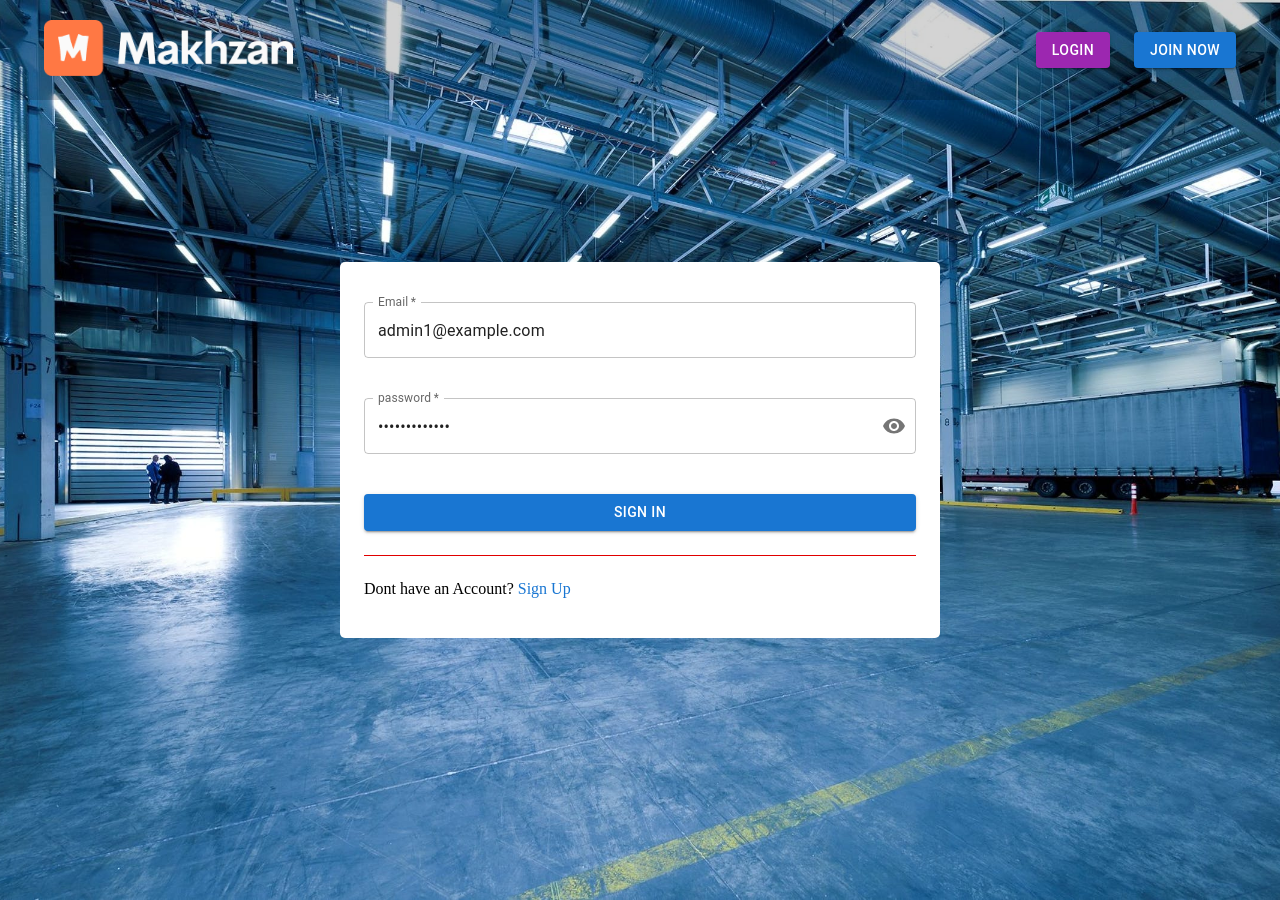
it: Auth Reduxified Container › should authenticate user with successfull login message
Clear the field with test id "email-inputElement": (640, 330) x1=364 y1=302 x2=916 y2=358
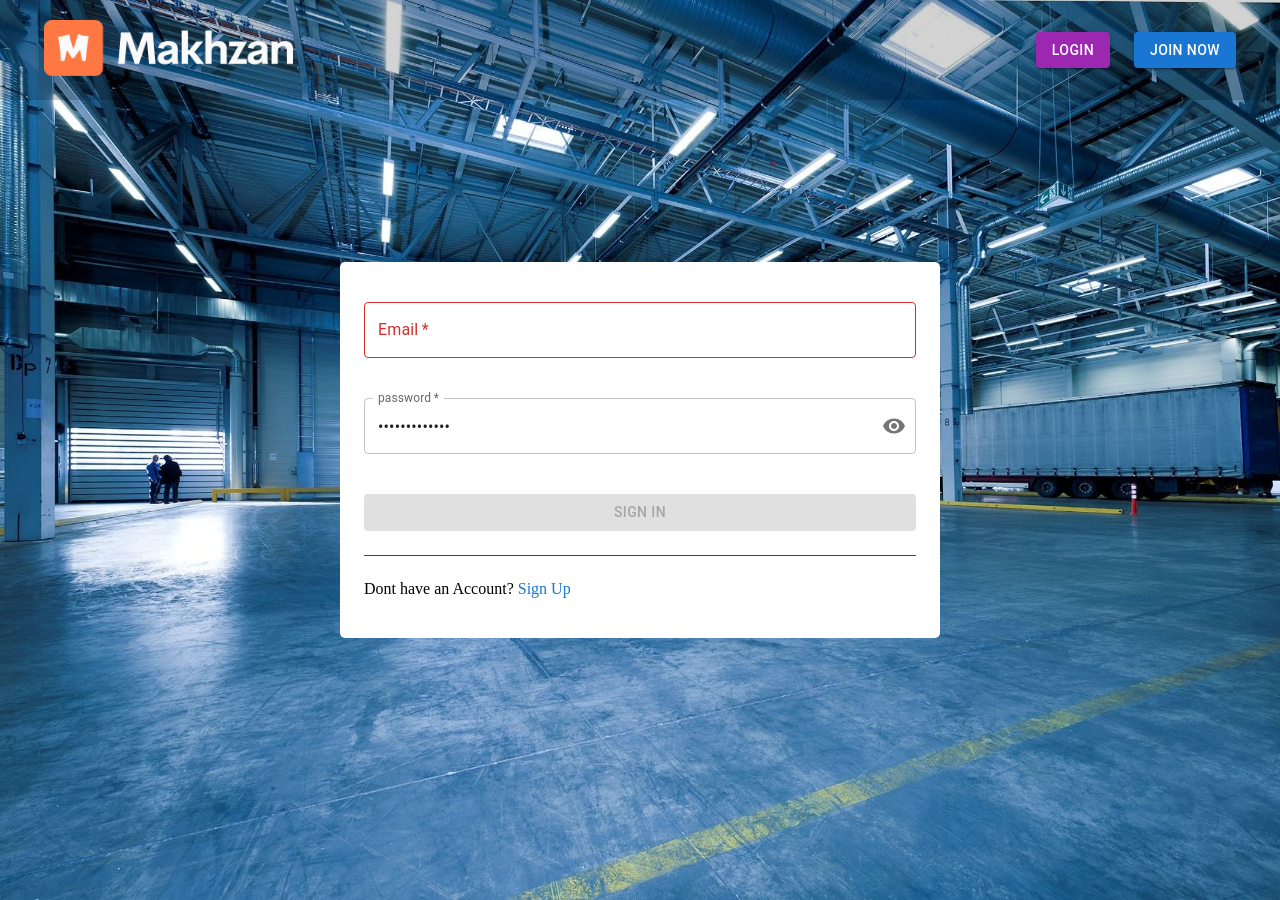
Clear the password field with test id "password-inputElement": (615, 426) x1=364 y1=398 x2=866 y2=454
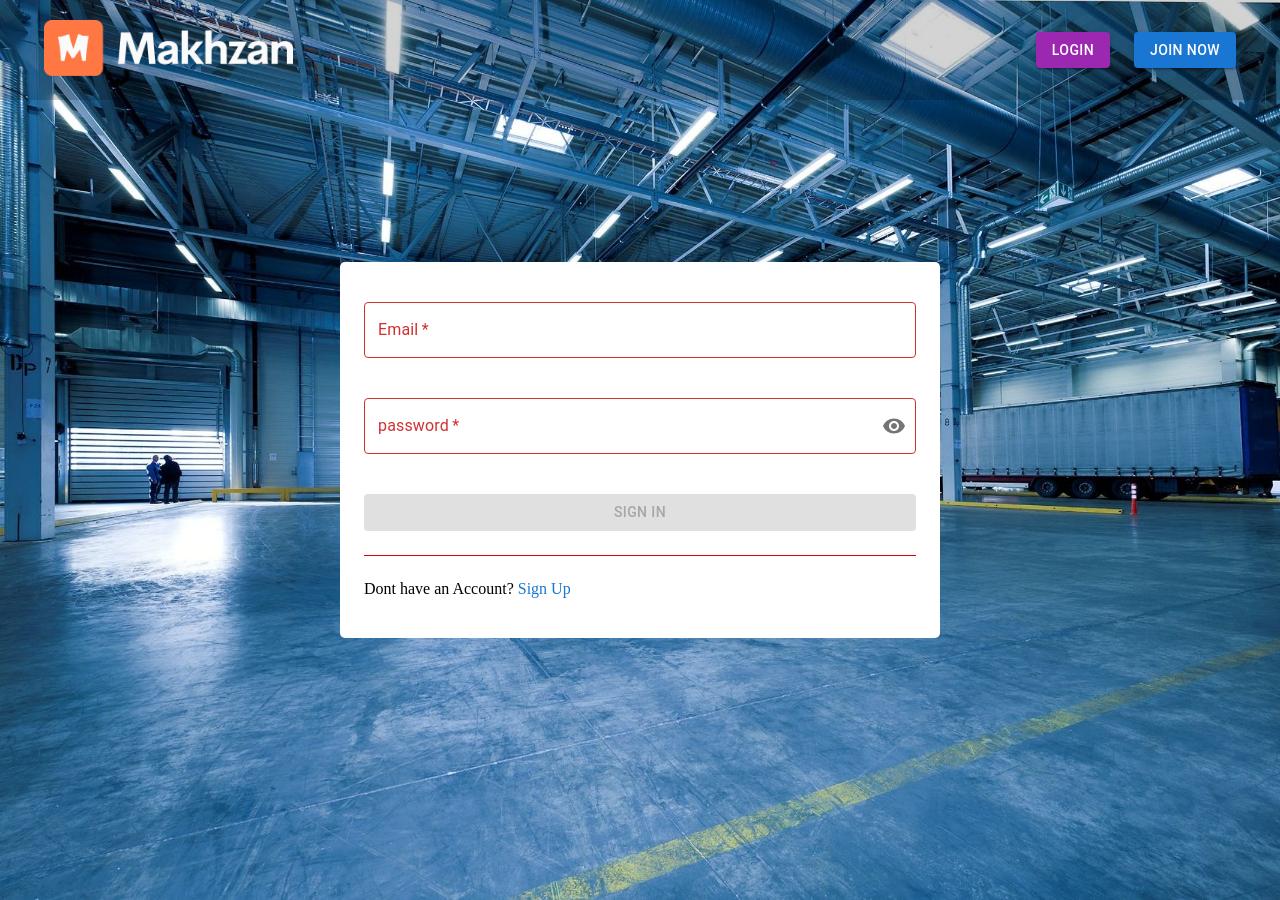
Expected: the text "Login Successful" is not shown
Expected: the button "Sign In" is disabled, x1=364 y1=494 x2=916 y2=531
In the field with test id "email-inputElement": (640, 330) x1=364 y1=302 x2=916 y2=358, type "test@example.com"
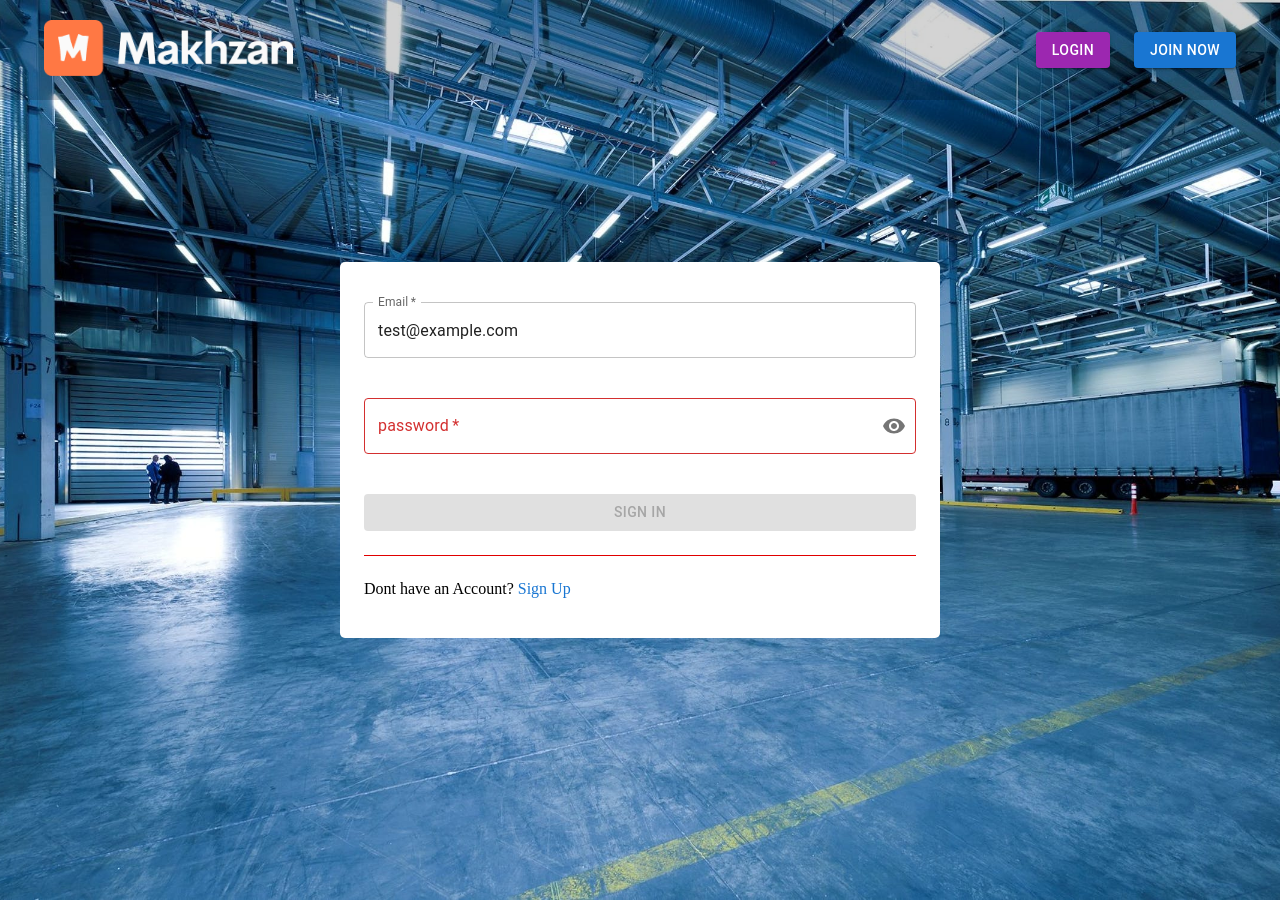
In the password field with test id "password-inputElement": (615, 426) x1=364 y1=398 x2=866 y2=454, type "123456"
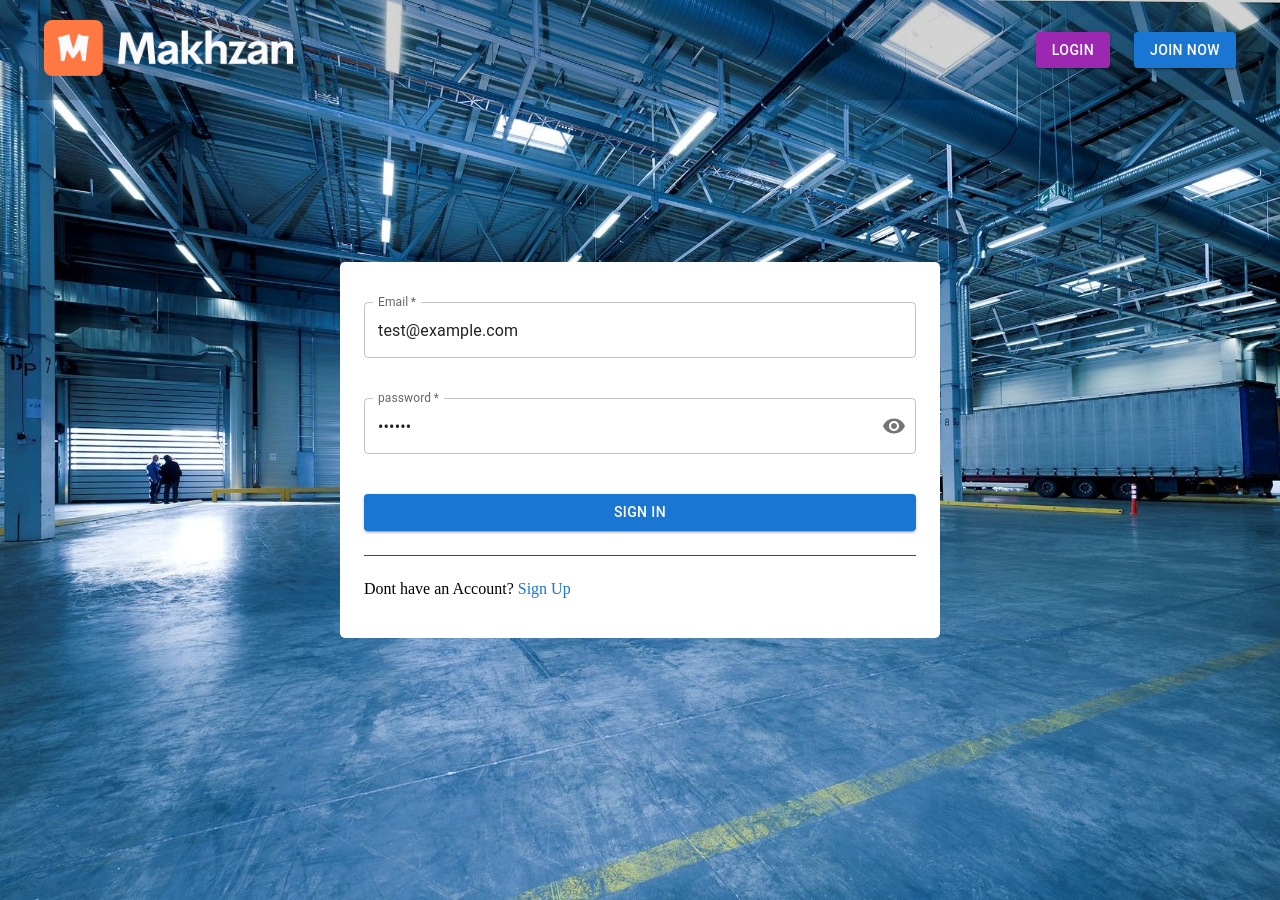
Expected: the button "Sign In" is enabled
Click the button "Sign In": (640, 513) x1=364 y1=494 x2=916 y2=531
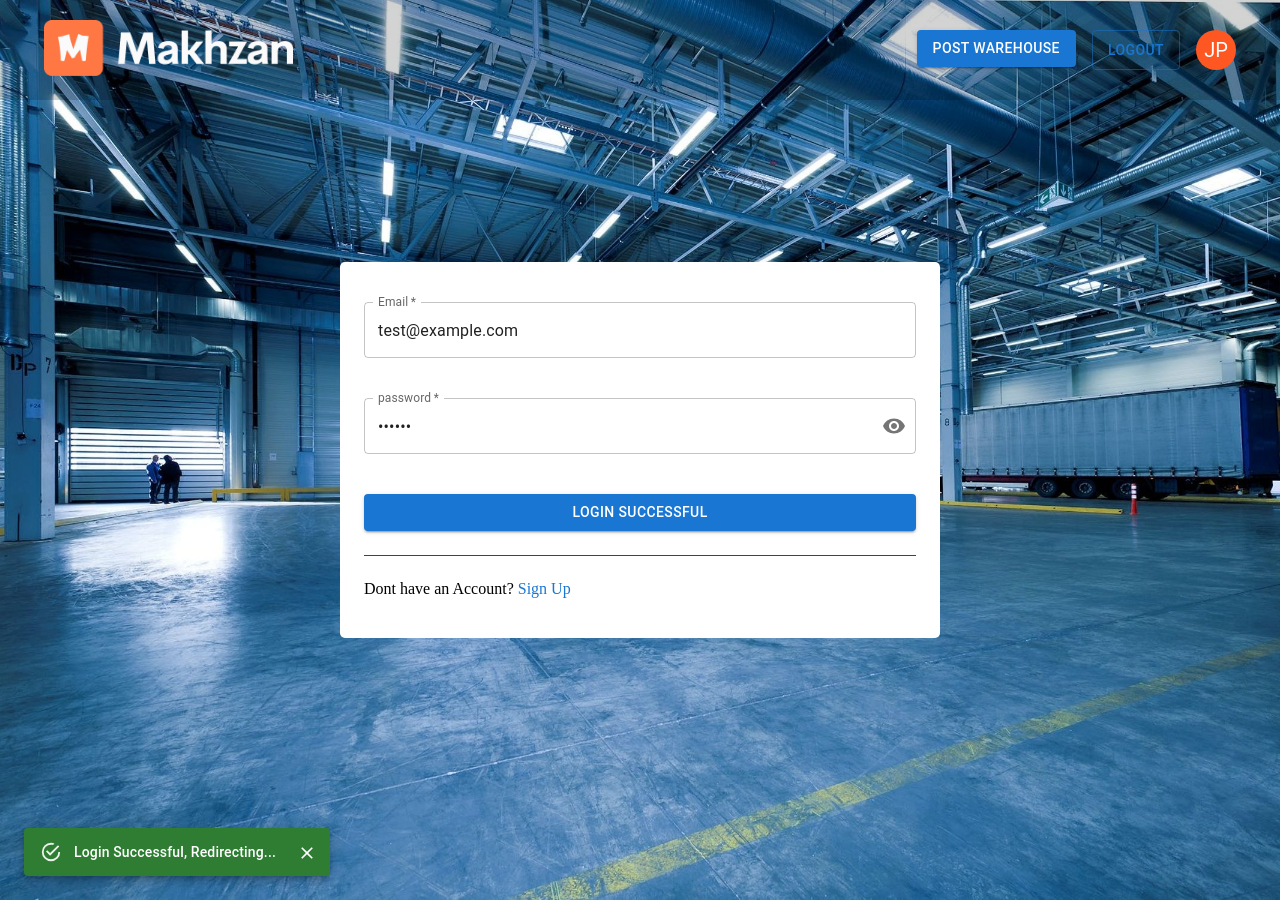
Expected: the button "Login Successful" is shown, x1=364 y1=494 x2=916 y2=531
Expected: the text "JP" is shown, x1=1196 y1=30 x2=1236 y2=70
